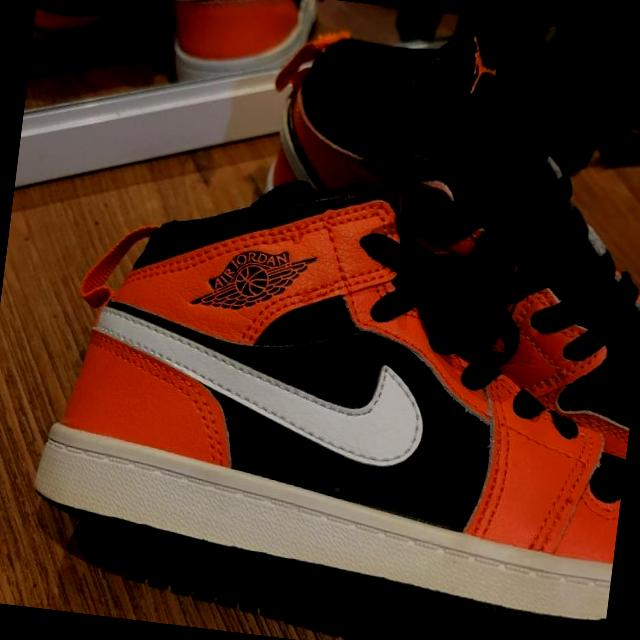nike_fake_jordan: (23, 152, 640, 640), (246, 11, 640, 375)
